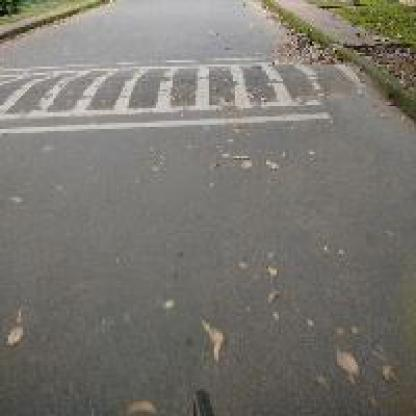Speed Bump: (0, 52, 385, 137)
